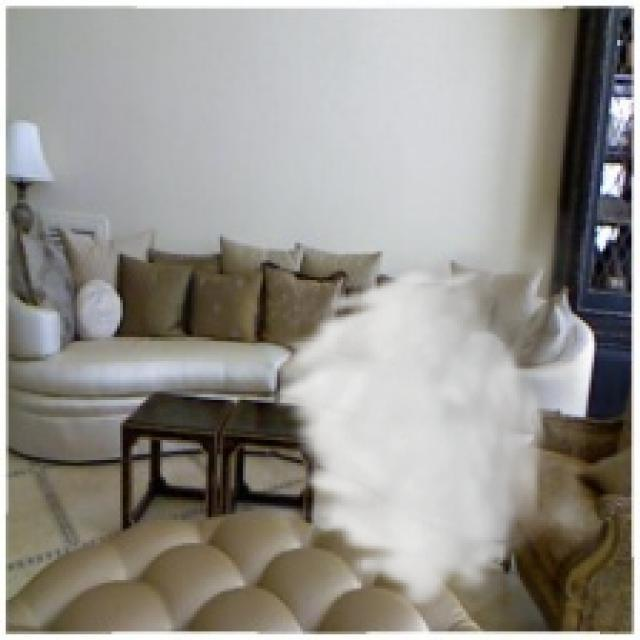Smoke: (262, 192, 614, 612)
